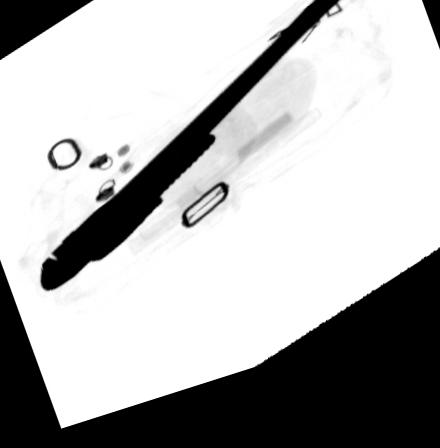Wrench: (38, 0, 356, 297)
